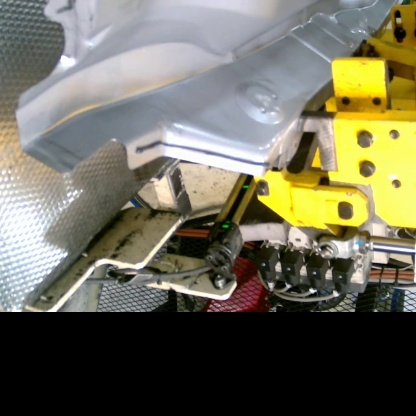line: (133, 137, 272, 168)
